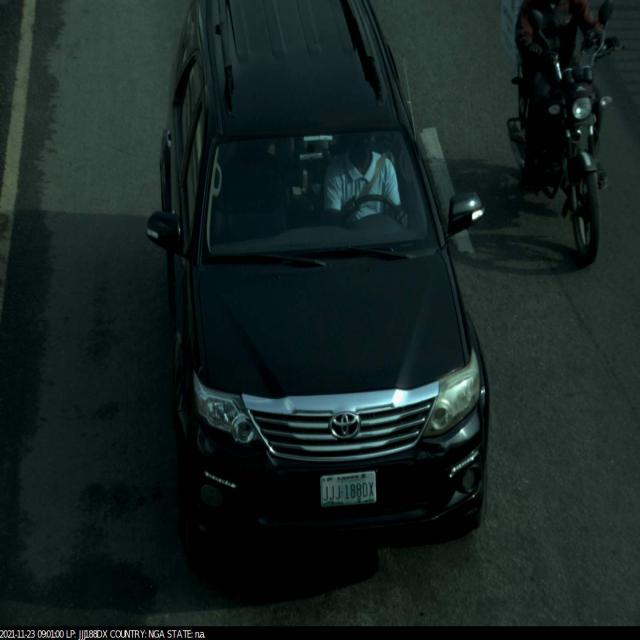windshield: (199, 102, 449, 280)
